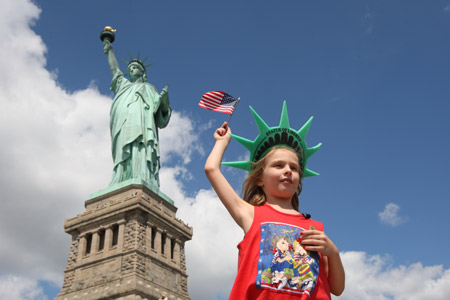statue of liberty pose: (196, 83, 349, 300)
